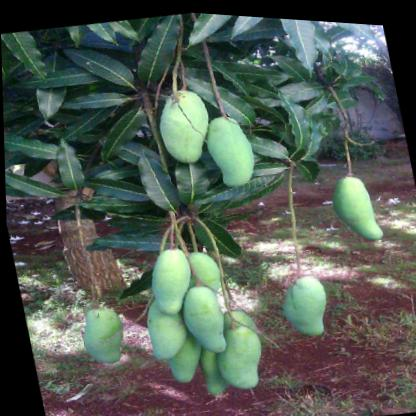mango: (312, 154, 398, 254), (135, 73, 219, 173), (195, 95, 274, 197), (263, 256, 350, 341), (134, 230, 209, 323), (214, 314, 282, 401), (176, 276, 234, 358), (72, 297, 123, 368)
